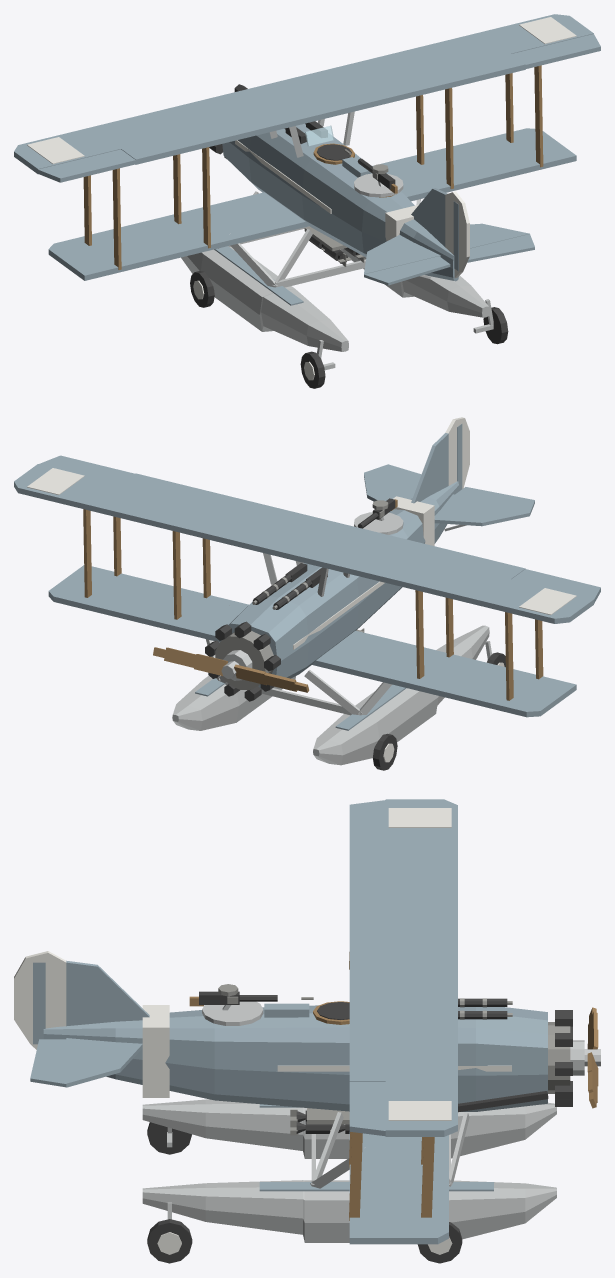
Rendered from seaplane.glb.
The picture shows the model from 3 angles, top to bottom: view 1: azimuth 30°, elevation 25°; view 2: azimuth 150°, elevation 25°; view 3: azimuth 270°, elevation 25°; orthographic projection. The views are drawn at different scales.
Visible parts, largest first — view 1: hull, gear, elevator, rudder, aileron_L, aileron_R, turret, gun; view 2: hull, prop, elevator, rudder, aileron_L, aileron_R, gear, turret, gun_R, gun_L, gun; view 3: hull, rudder, gear, aileron_R, aileron_L, elevator, turret, prop, gun.
Part boxes in pixels (x1=…): hull: x1=14, y1=14, x2=593, y2=351; gear: x1=190, y1=271, x2=508, y2=388; elevator: x1=364, y1=234, x2=534, y2=285; rudder: x1=445, y1=191, x2=469, y2=278; aileron_L: x1=38, y1=149, x2=135, y2=182; aileron_R: x1=512, y1=34, x2=600, y2=68; turret: x1=354, y1=171, x2=403, y2=197; gun: x1=344, y1=149, x2=397, y2=193; hull: x1=14, y1=433, x2=593, y2=765; prop: x1=153, y1=647, x2=309, y2=692; elevator: x1=365, y1=464, x2=534, y2=514; rudder: x1=445, y1=417, x2=469, y2=490; aileron_L: x1=512, y1=569, x2=600, y2=603; aileron_R: x1=39, y1=455, x2=134, y2=483; gear: x1=373, y1=641, x2=505, y2=770; turret: x1=354, y1=509, x2=403, y2=534; gun_R: x1=252, y1=563, x2=307, y2=604; gun_L: x1=272, y1=568, x2=327, y2=609; gun: x1=357, y1=498, x2=397, y2=528; hull: x1=43, y1=799, x2=584, y2=1244; rudder: x1=14, y1=951, x2=66, y2=1049; gear: x1=147, y1=1122, x2=462, y2=1263; aileron_R: x1=349, y1=1081, x2=385, y2=1136; aileron_L: x1=349, y1=800, x2=385, y2=848; elevator: x1=30, y1=1039, x2=66, y2=1087; turret: x1=202, y1=996, x2=263, y2=1025; prop: x1=584, y1=1007, x2=600, y2=1108; gun: x1=189, y1=984, x2=313, y2=1006.
Size of the model in its own units: 8.7 by 3.13 by 6.52.
